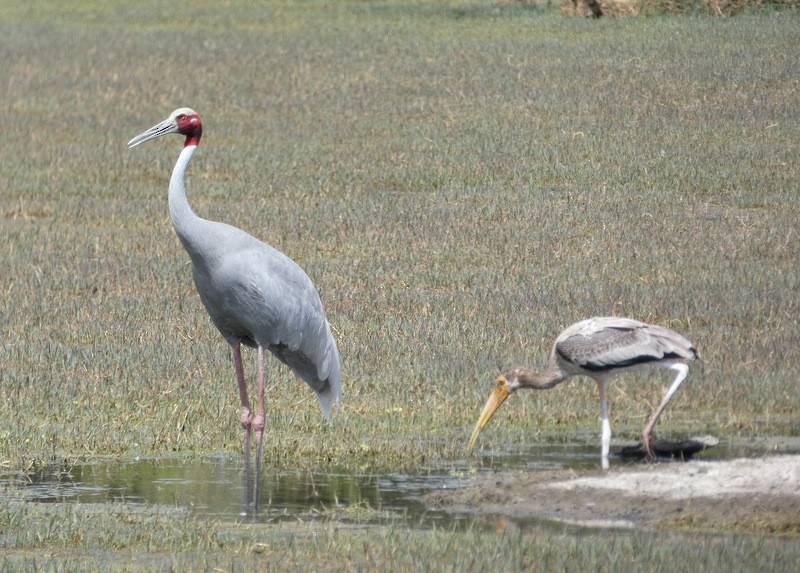crane: (122, 103, 356, 488), (463, 305, 710, 478)
